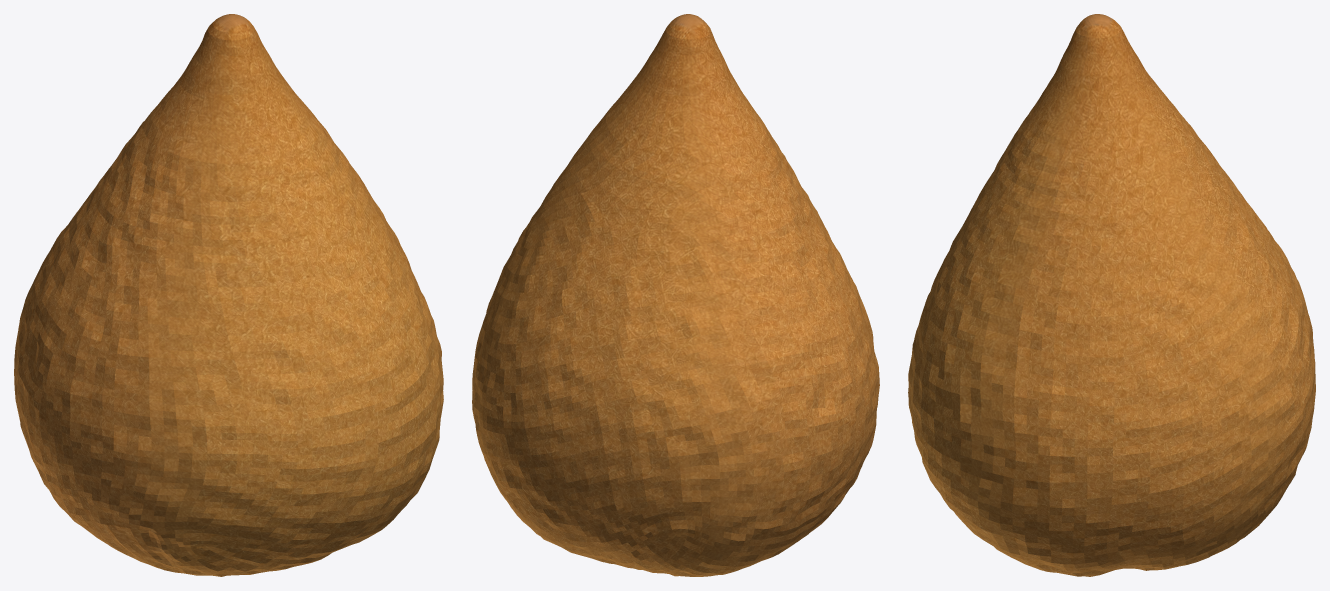
Rendered from coxinha_texture.fbx.
3 renders of one model, left to right at view 1: azimuth 30°, elevation 25°; view 2: azimuth 150°, elevation 25°; view 3: azimuth 270°, elevation 25°, orthographic. The views are drawn at different scales.
Visible parts, largest first — view 1: temp; view 2: temp; view 3: temp.
Part boxes in pixels (box(x1,y1,x2,y2)): temp: box(14, 14, 443, 576); temp: box(472, 14, 879, 576); temp: box(908, 14, 1315, 576).
Bounding box in the file's own units: 132 × 189 × 131.
1 material, 1 textured.
